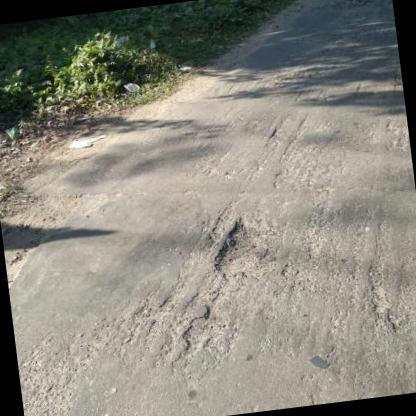pothole: (206, 212, 268, 278), (175, 305, 229, 354)
